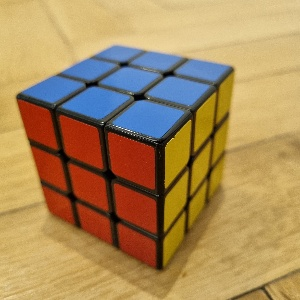cube: (16, 46, 236, 273)
